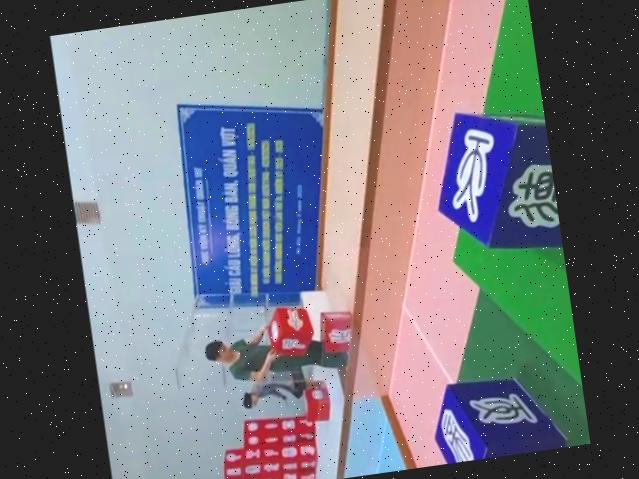R2 Fake Blue: (427, 100, 562, 263), (427, 365, 569, 465)
